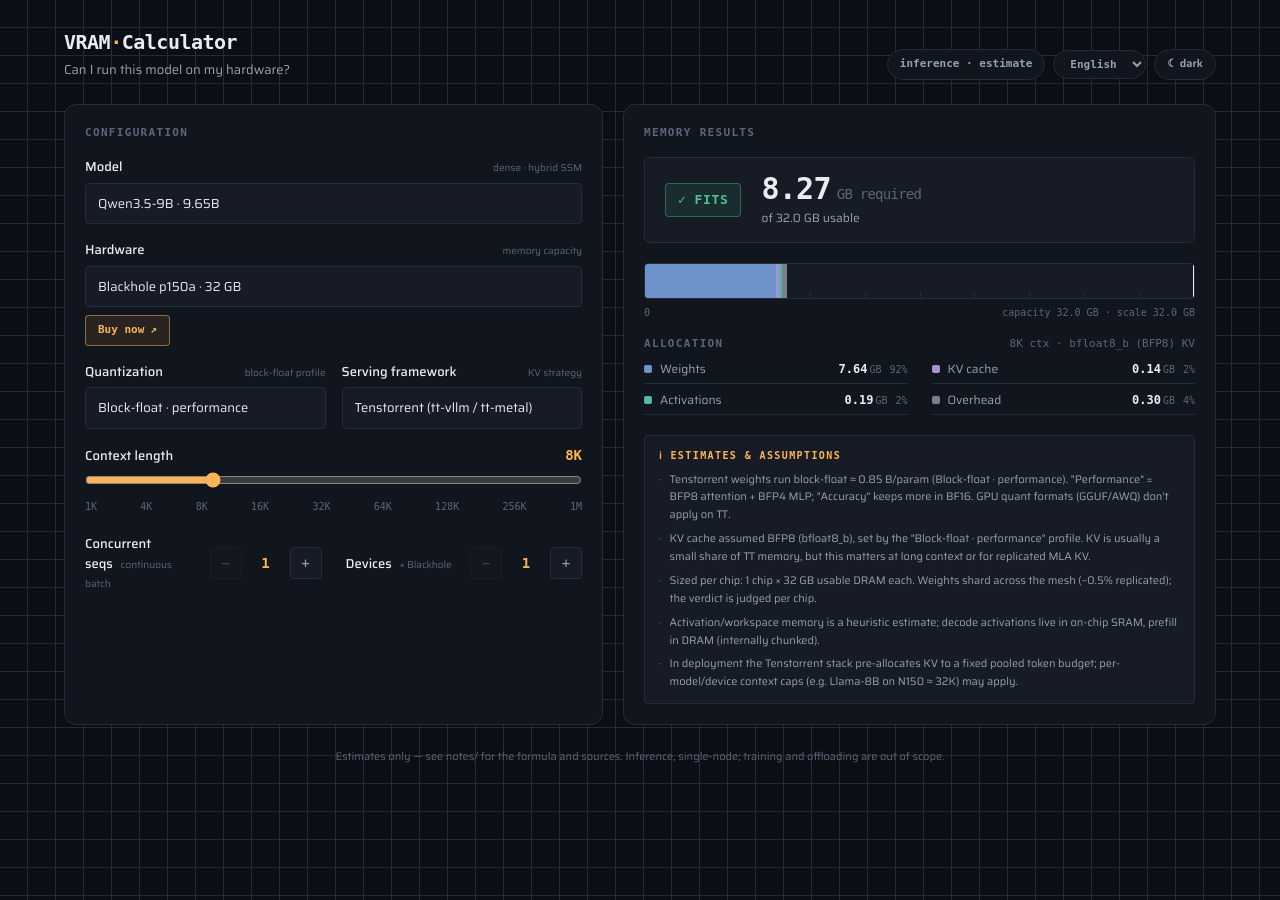
Test: App › recomputes live when the model changes (no Calculate button needed)
This screenshot has width=1280, height=900.
Select "Kimi-K2-Instruct (1T MoE, MLA) · 1.03T·A32" in the dropdown labelled "Model" at {"x": 334, "y": 203}, box [85,182,582,224]
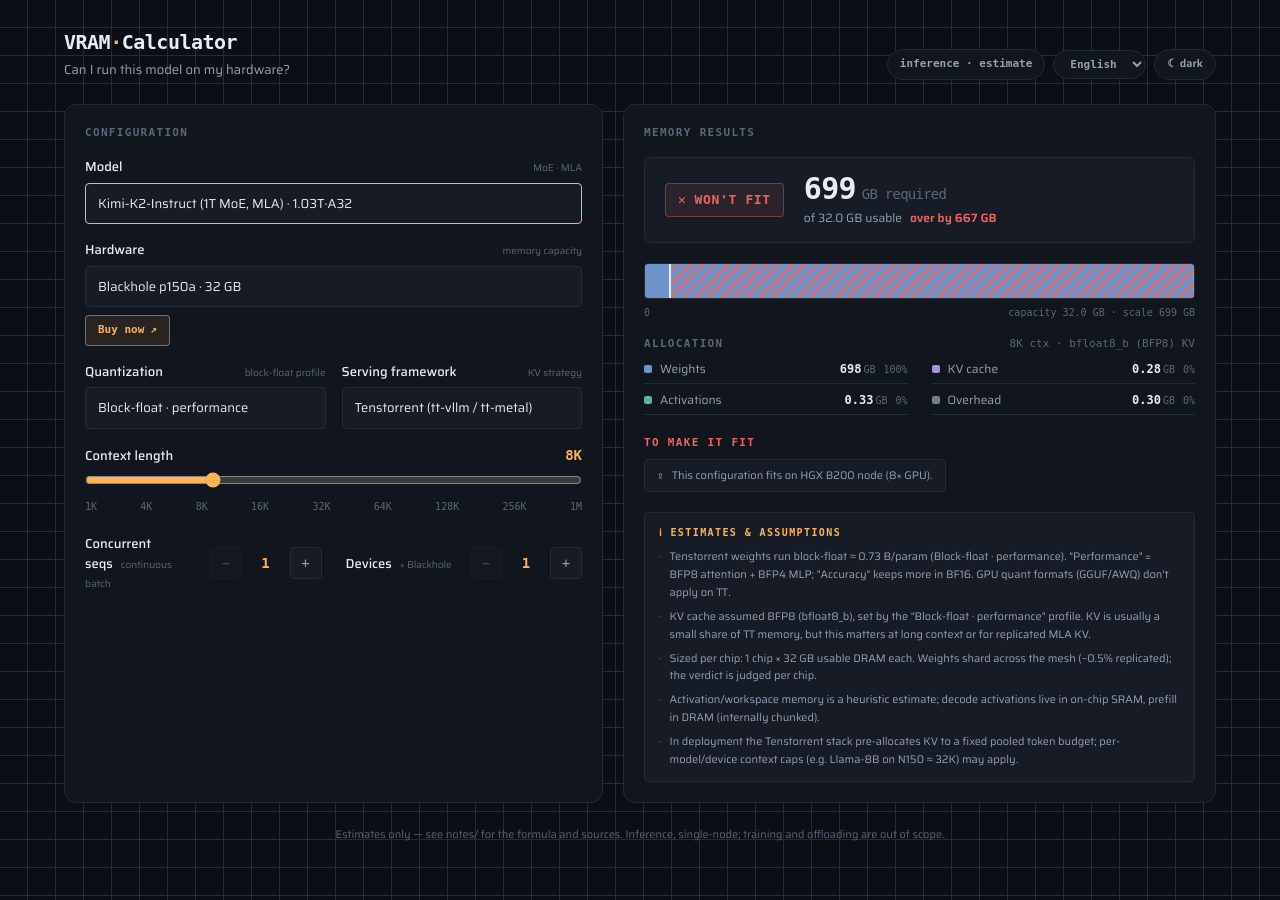
Expected: the message shows "WON'T FIT", [694,192,771,207]
